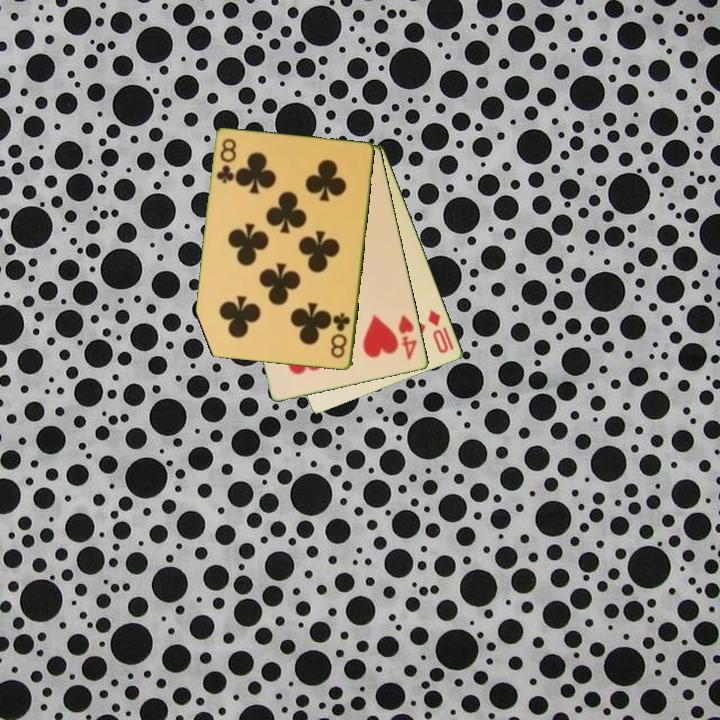10d: (425, 306, 452, 357)
4h: (395, 311, 420, 363)
8c: (327, 309, 354, 361), (213, 135, 239, 187)
